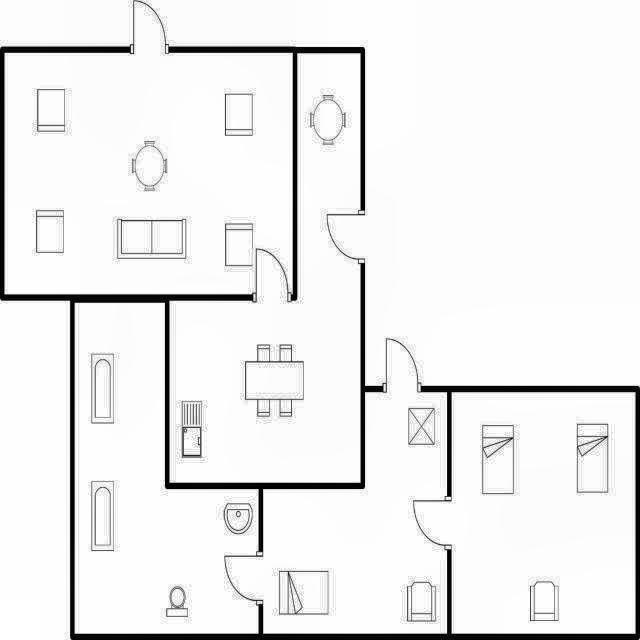room: (170, 53, 361, 483), (4, 53, 293, 294), (75, 303, 259, 634), (452, 392, 636, 634), (263, 392, 447, 634)
